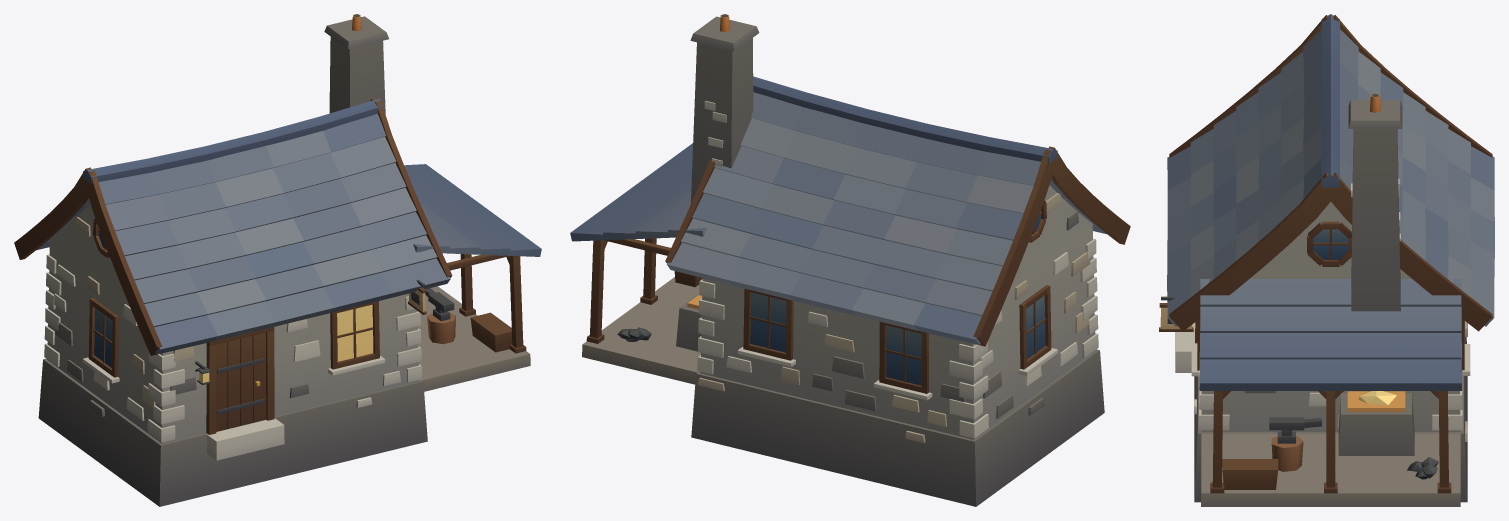
File: lm_smithy.glb
The picture shows the model from 3 angles, left to right: view 1: azimuth 30°, elevation 25°; view 2: azimuth 150°, elevation 25°; view 3: azimuth 270°, elevation 25°; orthographic projection. The views are drawn at different scales.
Visible parts, largest first — view 1: lm_smithy; view 2: lm_smithy; view 3: lm_smithy.
Boxes of the visible parts, left/top/right/bottom form: lm_smithy: left=14, top=14, right=541, bottom=506; lm_smithy: left=570, top=14, right=1130, bottom=506; lm_smithy: left=1159, top=14, right=1494, bottom=506.
Size of the model in its own units: 35.05 by 30.67 by 22.65.
1 material, 1 textured.
